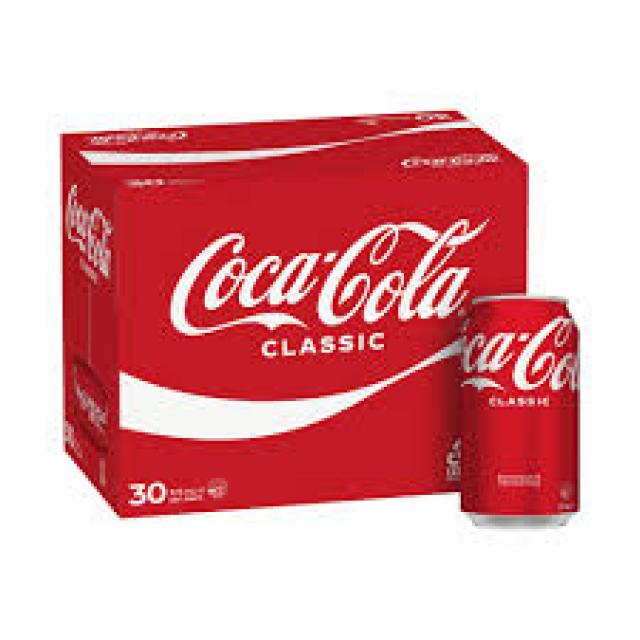Cans: (449, 284, 589, 535)
